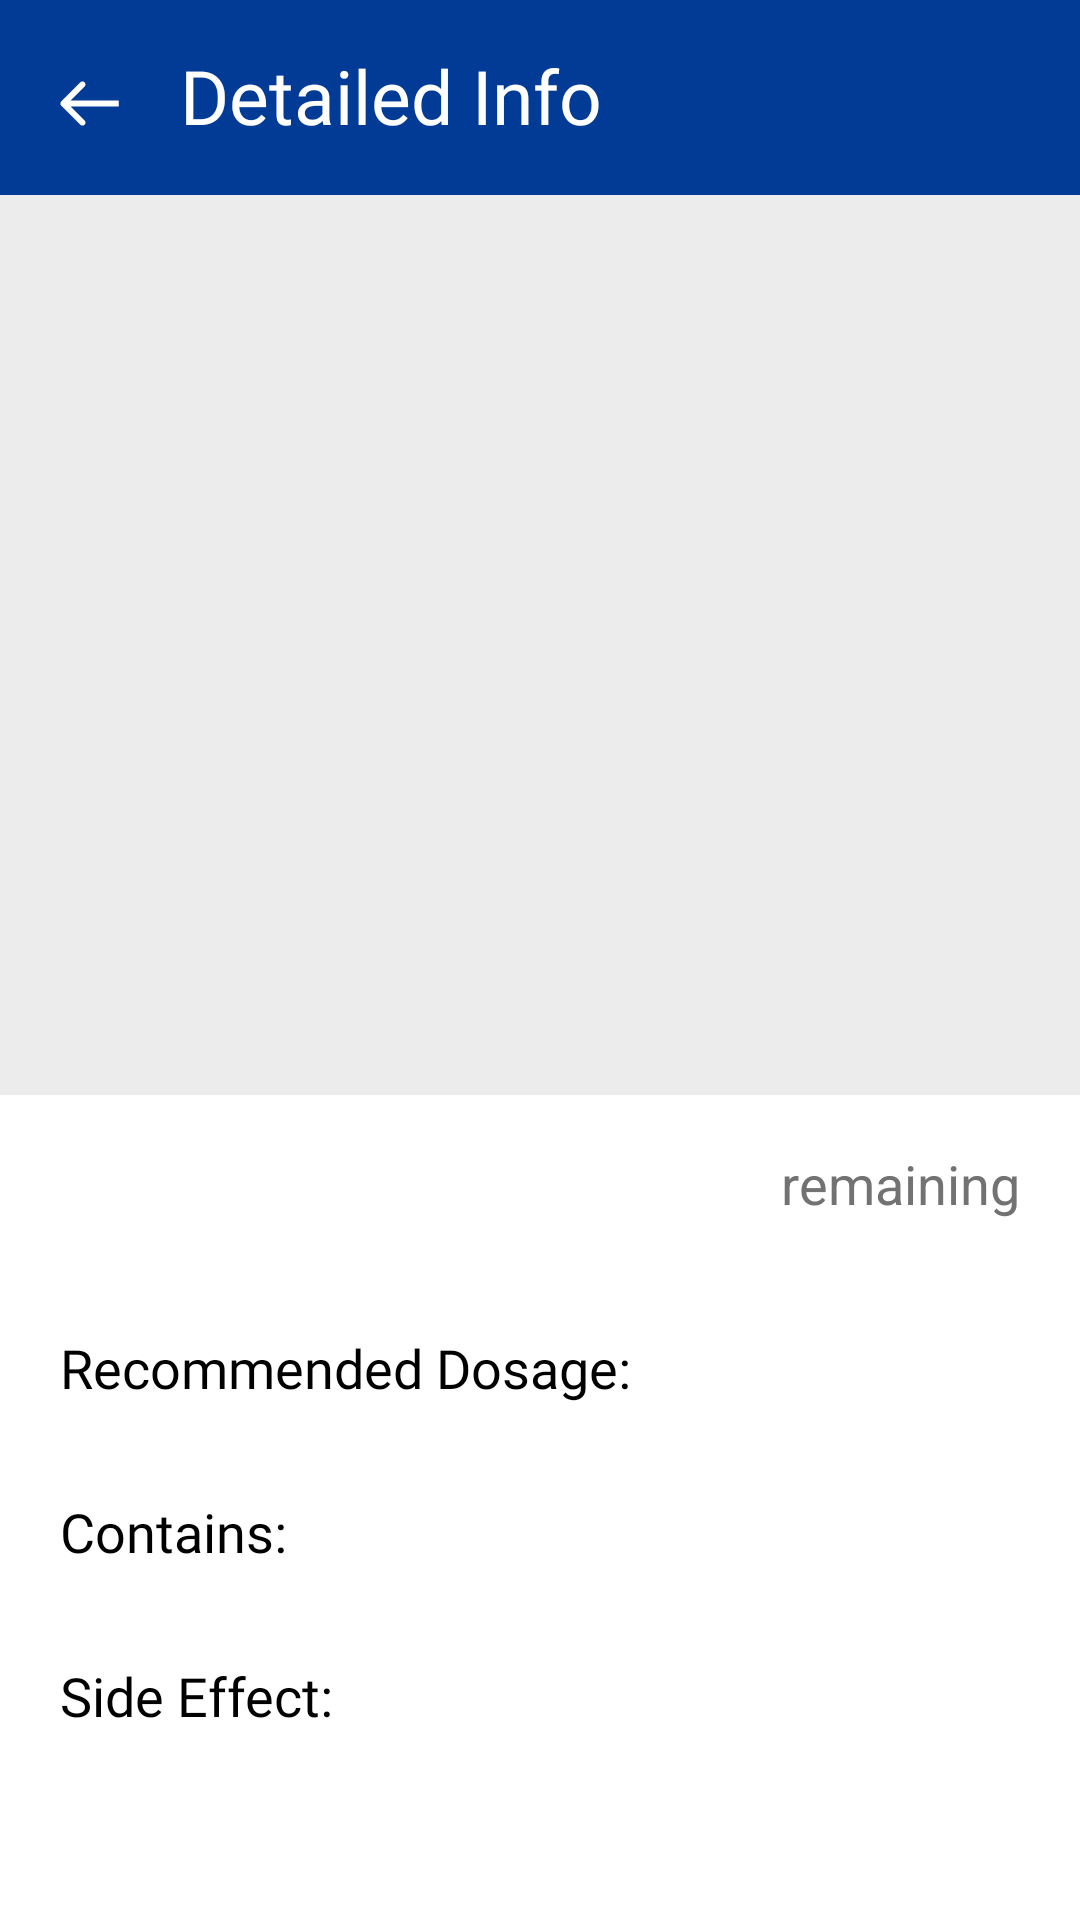

Where to tap for icons on this 1080 x 1920 app screen, as (x=x, y=y):
Back Arrow: (x=89, y=103)
